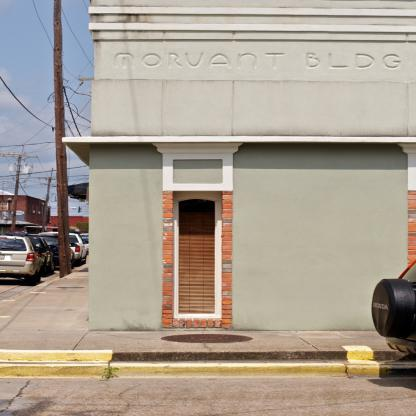car: (0, 234, 52, 282), (40, 230, 86, 263)
